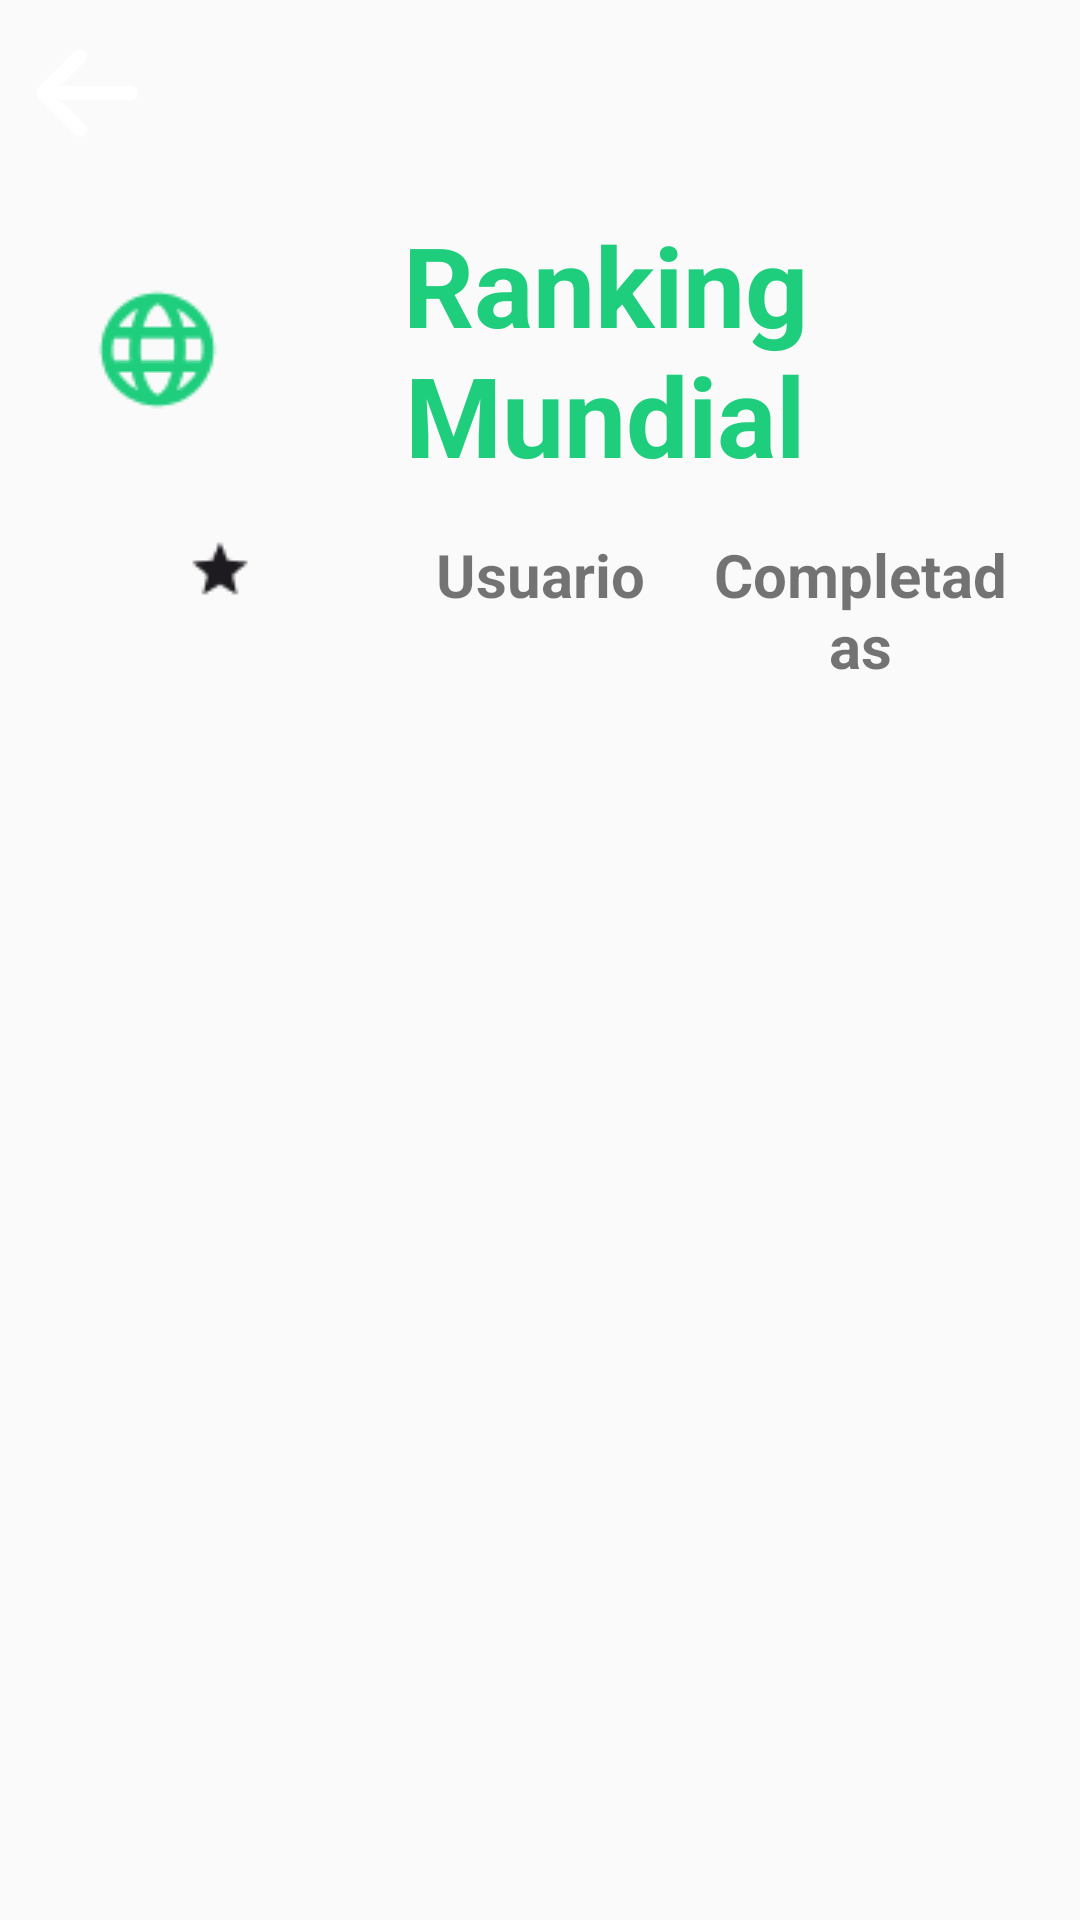

Icons on this 1080 x 1920 Android screen, each with its box as (x1, y1, x2, y2):
estrellaranking: (192, 542, 248, 595)
